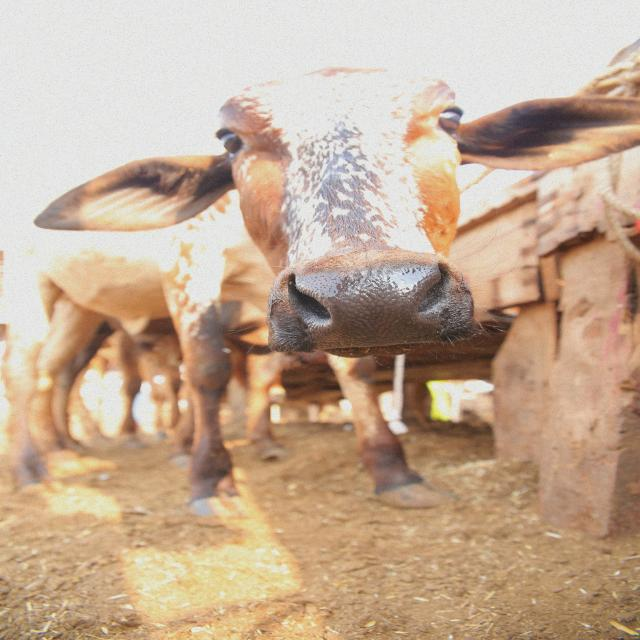muzzles: (279, 259, 465, 347)
